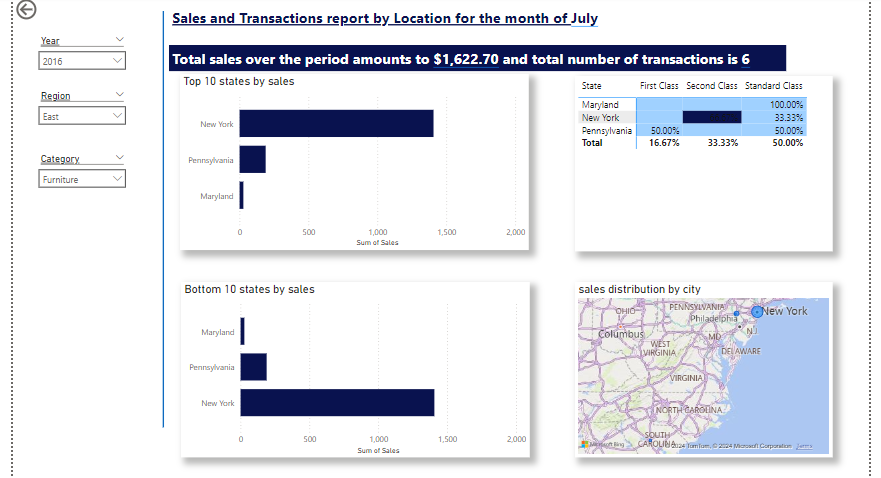

Layout of this report page (visuals, bound fields, positions):
{"tool":"powerbi","page":{"name":"Locations Report drill trough","canvas":[1280,720],"ordinal":6},"visuals":[{"type":"shape","box":[198,22.6,51.8,622.1],"z":0},{"type":"textbox","box":[233.5,11.8,922.2,62.2],"z":1000},{"type":"textbox","box":[233.5,73.9,922.2,38.6],"z":2000},{"type":"slicer","fields":{"Values":["Orders.Region"]},"box":[27.9,136.9,150.2,105],"z":3000},{"type":"slicer","fields":{"Values":["Orders.Order Date.Variation.Date Hierarchy.Year"]},"box":[27.9,53.2,150.2,59.8],"z":4000},{"type":"slicer","fields":{"Values":["Orders.Region"]},"box":[27.9,136.2,150.2,70.4],"z":5000},{"type":"slicer","fields":{"Values":["Orders.Category"]},"box":[27.9,229.9,150.2,94.4],"z":6000},{"type":"barChart","title":"Top 10 states by sales","fields":{"Category":["Orders.State"],"Y":["Sum(Orders.Sales)"]},"box":[249.9,117,521,263.2],"z":7000},{"type":"barChart","title":"Bottom 10 states by sales","fields":{"Category":["Orders.State"],"Y":["Sum(Orders.Sales)"]},"box":[250.3,426.7,520.7,262],"z":8000},{"type":"pivotTable","fields":{"Rows":["Orders.State"],"Columns":["Orders.Ship Mode"],"Values":["Min(Orders.Order ID)"]},"box":[839.9,119.3,384.7,262],"z":9000},{"type":"actionButton","box":[0,0,100,40],"z":10000},{"type":"map","title":"sales distribution by city","fields":{"Category":["Orders.city.country"],"Size":["Sum(Orders.Sales)"]},"box":[840,427,385,262],"z":11000}]}

Visuals, with their boxes on the page's 1280x720 design canvas (x1, y1, x2, y2). These are canvas units, not pixel positions in the 881x478 screenshot, which may show the page scaled, cropped or inside an application window:
shape: <bbox>198, 23, 250, 645</bbox>
textbox: <bbox>234, 12, 1156, 74</bbox>
textbox: <bbox>234, 74, 1156, 112</bbox>
slicer - Orders.Region: <bbox>28, 137, 178, 242</bbox>
slicer - Orders.Order Date.Variation.Date Hierarchy.Year: <bbox>28, 53, 178, 113</bbox>
slicer - Orders.Region: <bbox>28, 136, 178, 207</bbox>
slicer - Orders.Category: <bbox>28, 230, 178, 324</bbox>
"Top 10 states by sales" barChart: <bbox>250, 117, 771, 380</bbox>
"Bottom 10 states by sales" barChart: <bbox>250, 427, 771, 689</bbox>
pivotTable - Orders.State x Orders.Ship Mode: <bbox>840, 119, 1225, 381</bbox>
actionButton: <bbox>0, 0, 100, 40</bbox>
"sales distribution by city" map: <bbox>840, 427, 1225, 689</bbox>
